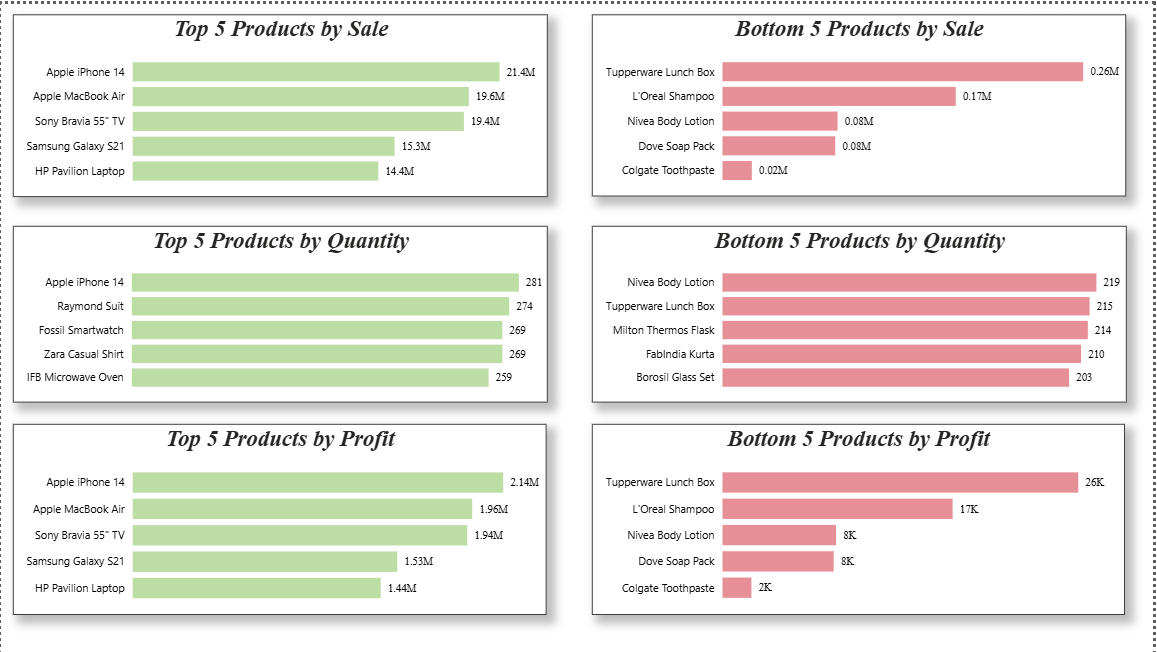

This screenshot's page, from the dashboard's own definition file:
{"tool":"powerbi","page":{"name":"Top/Bottom 5 Analysis ","canvas":[1280,720],"ordinal":1},"visuals":[{"type":"barChart","title":"Top 5 Products by Sale","fields":{"Category":["Dim Product.Product Name"],"Y":["Sum(Fact Table.Net Sales  )"]},"box":[31.7,25,593.3,201.7],"z":0},{"type":"barChart","title":"Bottom 5 Products by Sale","fields":{"Category":["Dim Product.Product Name"],"Y":["Sum(Fact Table.Net Sales  )"]},"box":[657.4,24.3,592.6,202.4],"z":1000},{"type":"barChart","title":"Top 5 Products by Quantity","fields":{"Category":["Dim Product.Product Name"],"Y":["Sum(Fact Table.Units Sold)"]},"box":[31.7,260,593.3,196.7],"z":2000},{"type":"barChart","title":"Top 5 Products by Profit","fields":{"Category":["Dim Product.Product Name"],"Y":["Sum(Fact Table.Profit)"]},"box":[31.7,490,591.7,213.3],"z":3000},{"type":"barChart","title":"Bottom 5 Products by Quantity","fields":{"Category":["Dim Product.Product Name"],"Y":["Sum(Fact Table.Units Sold)"]},"box":[657.4,260.7,594.3,195.9],"z":4000},{"type":"barChart","title":"Bottom 5 Products by Profit","fields":{"Category":["Dim Product.Product Name"],"Y":["Sum(Fact Table.Profit)"]},"box":[657.4,490.6,591,212.1],"z":5000}]}

Visuals, with their boxes in screenshot pixels (x1, y1, x2, y2), scaled from the page's 1280x720 canvas onto the 1157x652 screenshot:
"Top 5 Products by Sale" barChart: (left=29, top=23, right=565, bottom=205)
"Bottom 5 Products by Sale" barChart: (left=594, top=22, right=1130, bottom=205)
"Top 5 Products by Quantity" barChart: (left=29, top=235, right=565, bottom=414)
"Top 5 Products by Profit" barChart: (left=29, top=444, right=563, bottom=637)
"Bottom 5 Products by Quantity" barChart: (left=594, top=236, right=1131, bottom=413)
"Bottom 5 Products by Profit" barChart: (left=594, top=444, right=1128, bottom=636)
